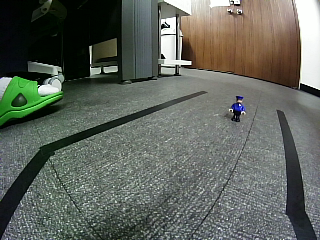person: (229, 96, 246, 122)
